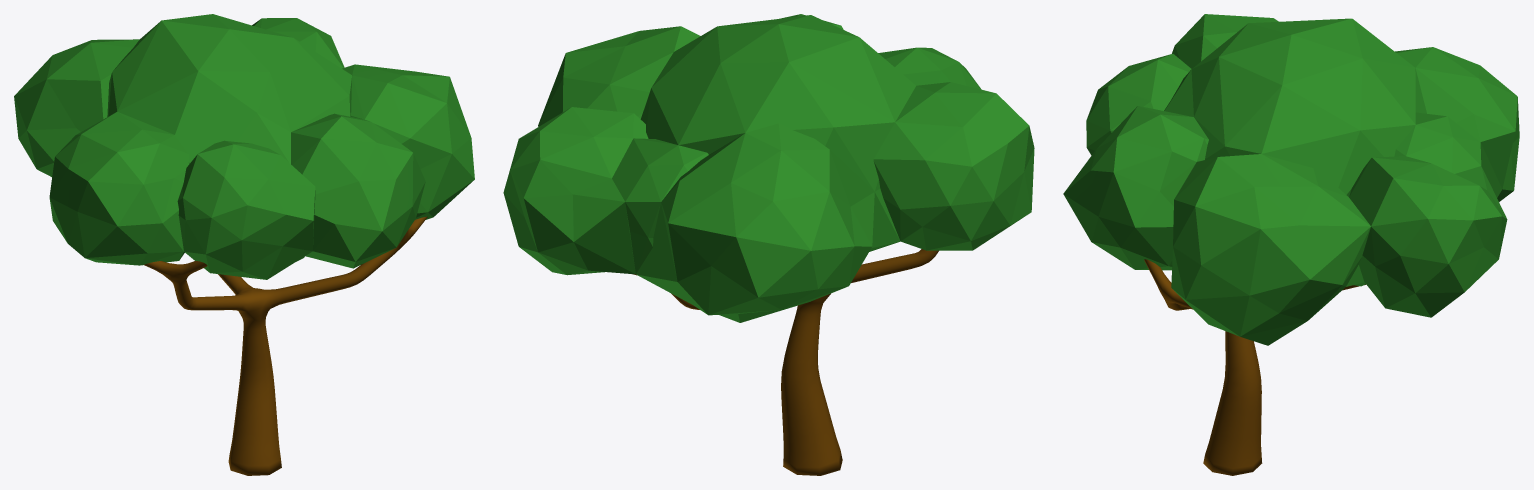
Rendered from Tree_2.fbx.
3 renders of one model, left to right at view 1: azimuth 30°, elevation 25°; view 2: azimuth 150°, elevation 25°; view 3: azimuth 270°, elevation 25°, orthographic. The views are drawn at different scales.
Parts seen in each view (by area): view 1: Tree_2; view 2: Tree_2; view 3: Tree_2.
Boxes of the visible parts, x1,y1,x2,y2 form: Tree_2: [14, 14, 474, 475]; Tree_2: [503, 14, 1034, 475]; Tree_2: [1063, 14, 1519, 475].
Size of the model in its own units: 752 by 750 by 721.
